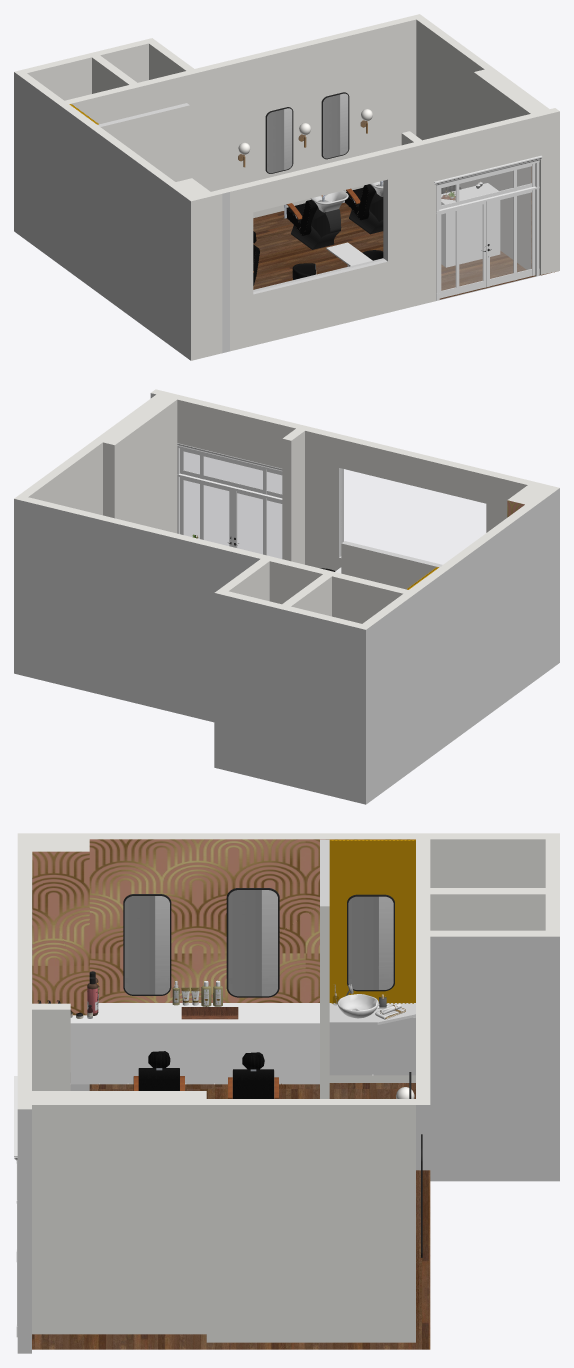
The model's file is modelo.glb.
3 renders of one model, top to bottom at view 1: azimuth 30°, elevation 25°; view 2: azimuth 150°, elevation 25°; view 3: azimuth 270°, elevation 25°, orthographic. The views are drawn at different scales.
Visible parts, largest first — view 1: Geom3D (×13), Geom3D_, Geom3D_Componente#118, Geom3D_Componente#48 (×2), Geom3D_Componente#162 (×2), Geom3D_Componente#119, Geom3D_Component#6; view 2: Geom3D_, Geom3D (×6), Geom3D_Componente#118, Geom3D_Componente#119, Geom3D_Componente#48; view 3: Geom3D (×11), Geom3D_ (×2), Geom3D_BASE_PAINEL.
Boxes of the visible parts, box(x1,y1,x2,y2) form: Geom3D (×13): box(14, 14, 559, 360); Geom3D_: box(14, 72, 387, 360); Geom3D_Componente#118: box(434, 155, 542, 300); Geom3D_Componente#48 (×2): box(458, 194, 515, 294); Geom3D_Componente#162 (×2): box(439, 189, 535, 298); Geom3D_Componente#119: box(458, 168, 515, 205); Geom3D_Component#6: box(310, 190, 348, 212); Geom3D_: box(14, 393, 559, 804); Geom3D (×6): box(14, 389, 559, 629); Geom3D_Componente#118: box(177, 443, 282, 533); Geom3D_Componente#119: box(201, 453, 264, 493); Geom3D_Componente#48: box(201, 482, 233, 546); Geom3D (×11): box(17, 833, 559, 1349); Geom3D_ (×2): box(17, 839, 559, 1353); Geom3D_BASE_PAINEL: box(329, 839, 415, 1002).
Size of what is drawn, in the model's own units: 6.8 by 2.81 by 5.69.
Materials: 79 (47 with a texture image).
